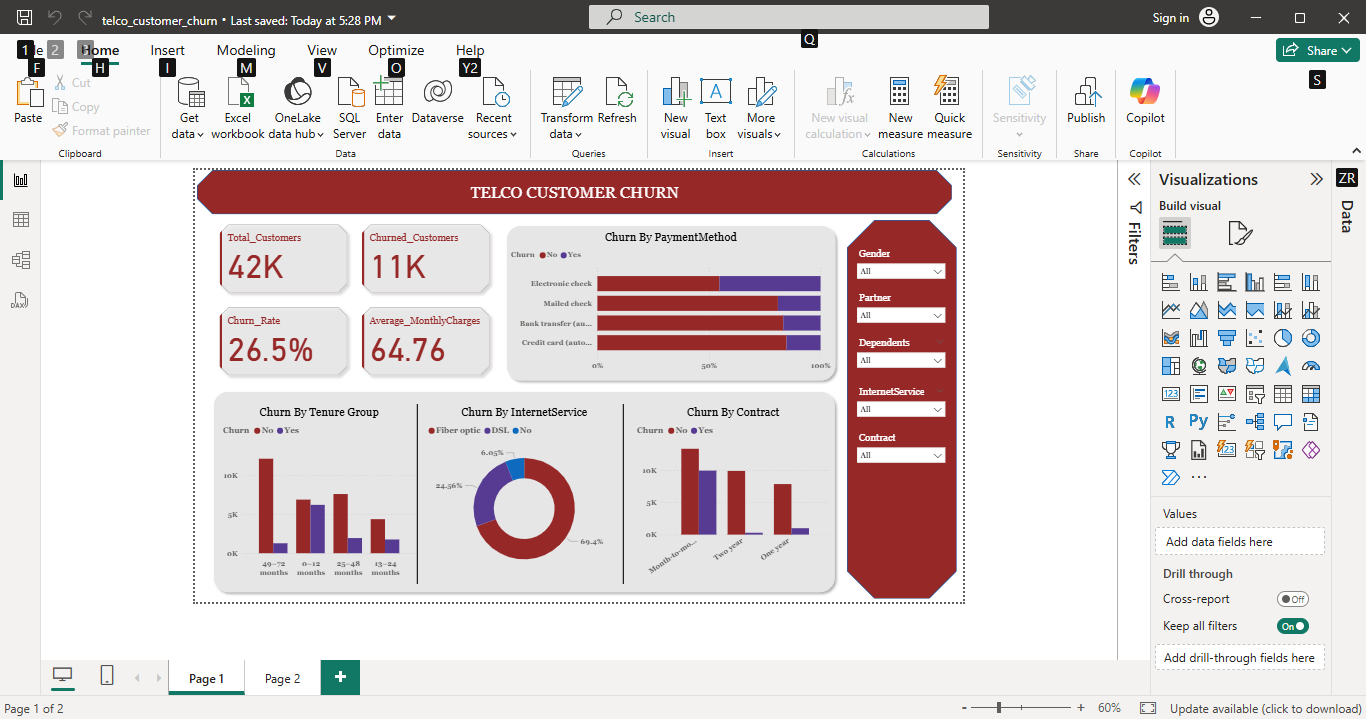

Layout of this report page (visuals, bound fields, positions):
{"tool":"powerbi","page":{"name":"Home","canvas":[1280,720],"ordinal":0},"visuals":[{"type":"shape","box":[3.1,0,1258.5,73.8],"z":0},{"type":"shape","box":[22,360,1053.7,352.7],"z":1000},{"type":"cardVisual","fields":{"Data":["telco_customer_churn.Total_Customers","telco_customer_churn.Churned_Customers","telco_customer_churn.Churn_Rate","telco_customer_churn.Average_MonthlyCharges"]},"box":[0,73.2,509.3,286.8],"z":2000},{"type":"clusteredColumnChart","title":"Churn By Contract","fields":{"Category":["telco_customer_churn.Contract"],"Series":["telco_customer_churn.Churn"],"Y":["telco_customer_churn.Total_Customers"]},"box":[731.7,393.7,330.7,292.7],"z":3000},{"type":"clusteredColumnChart","title":"Churn By Tenure Group","fields":{"Y":["telco_customer_churn.Total_Customers"],"Category":["telco_customer_churn.Tenure group"],"Series":["telco_customer_churn.Churn"]},"box":[41,393.7,330.7,292.7],"z":4000},{"type":"donutChart","title":"Churn By InternetService","fields":{"Y":["telco_customer_churn.Churned_Customers"],"Category":["telco_customer_churn.InternetService"]},"box":[383.4,393.7,330.7,292.7],"z":5000},{"type":"shape","box":[1085.9,82.8,182.8,631.2],"z":6000},{"type":"slicer","fields":{"Values":["telco_customer_churn.gender"]},"box":[1093.8,125,167.2,73.4],"z":7000},{"type":"slicer","fields":{"Values":["telco_customer_churn.Dependents"]},"box":[1093.8,273.4,167.2,71.9],"z":8000},{"type":"slicer","fields":{"Values":["telco_customer_churn.InternetService"]},"box":[1093.8,354.7,167.2,76.6],"z":9000},{"type":"slicer","fields":{"Values":["telco_customer_churn.Partner"]},"box":[1093.8,198.4,167.2,75],"z":10000},{"type":"slicer","fields":{"Values":["telco_customer_churn.Contract"]},"box":[1093.8,431.2,167.2,70.3],"z":11000},{"type":"shape","box":[345.4,389.3,51.2,300],"z":12000},{"type":"shape","box":[687.8,389.3,51.2,300],"z":13000},{"type":"shape","box":[509.3,83.4,566.3,276.6],"z":14000},{"type":"hundredPercentStackedBarChart","title":"Churn By PaymentMethod","fields":{"Category":["telco_customer_churn.PaymentMethod"],"Y":["telco_customer_churn.Total_Customers"],"Series":["telco_customer_churn.Churn"]},"box":[521,102.4,542.9,240],"z":15000},{"type":"actionButton","box":[1153.2,563.4,48.3,48.3],"z":16000},{"type":"actionButton","box":[1153.2,636.6,48.3,49.8],"z":17000}]}

Visuals, with their boxes on the page's 1280x720 design canvas (x1, y1, x2, y2). These are canvas units, not pixel positions in the 1366x719 screenshot, which may show the page scaled, cropped or inside an application window:
shape: (x1=3, y1=0, x2=1262, y2=74)
shape: (x1=22, y1=360, x2=1076, y2=713)
cardVisual - telco_customer_churn.Total_Customers x telco_customer_churn.Churned_Customers: (x1=0, y1=73, x2=509, y2=360)
"Churn By Contract" clusteredColumnChart: (x1=732, y1=394, x2=1062, y2=686)
"Churn By Tenure Group" clusteredColumnChart: (x1=41, y1=394, x2=372, y2=686)
"Churn By InternetService" donutChart: (x1=383, y1=394, x2=714, y2=686)
shape: (x1=1086, y1=83, x2=1269, y2=714)
slicer - telco_customer_churn.gender: (x1=1094, y1=125, x2=1261, y2=198)
slicer - telco_customer_churn.Dependents: (x1=1094, y1=273, x2=1261, y2=345)
slicer - telco_customer_churn.InternetService: (x1=1094, y1=355, x2=1261, y2=431)
slicer - telco_customer_churn.Partner: (x1=1094, y1=198, x2=1261, y2=273)
slicer - telco_customer_churn.Contract: (x1=1094, y1=431, x2=1261, y2=502)
shape: (x1=345, y1=389, x2=397, y2=689)
shape: (x1=688, y1=389, x2=739, y2=689)
shape: (x1=509, y1=83, x2=1076, y2=360)
"Churn By PaymentMethod" hundredPercentStackedBarChart: (x1=521, y1=102, x2=1064, y2=342)
actionButton: (x1=1153, y1=563, x2=1202, y2=612)
actionButton: (x1=1153, y1=637, x2=1202, y2=686)
